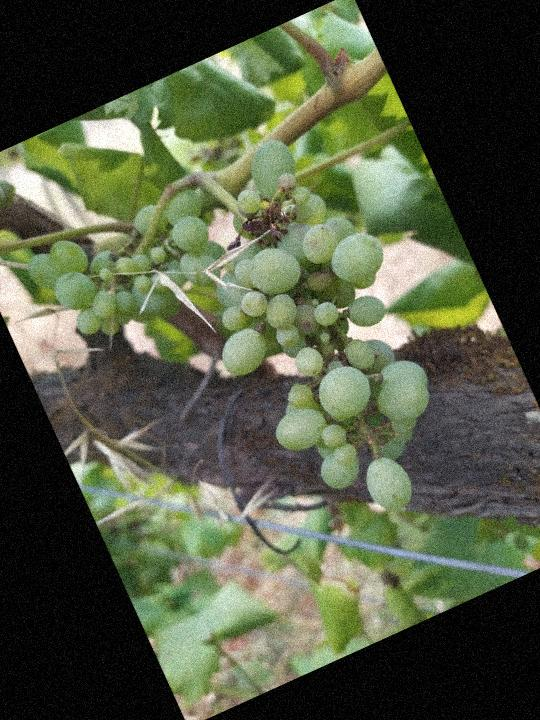grape: (142, 111, 489, 556)
